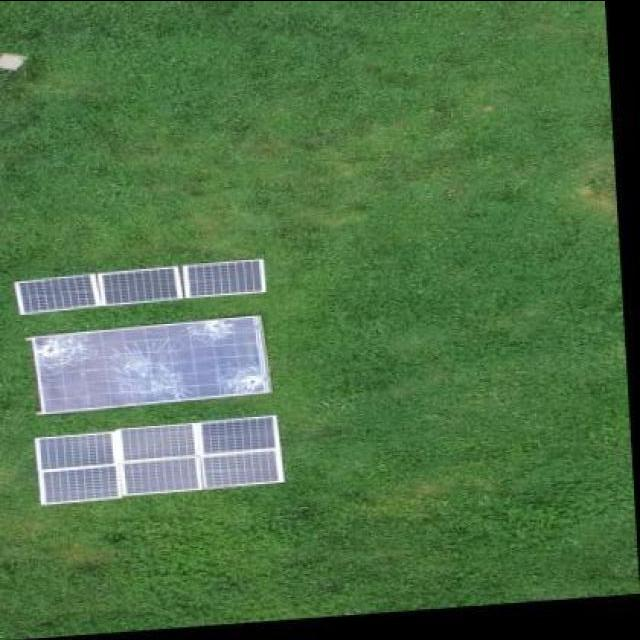cracked: (26, 314, 273, 418)
